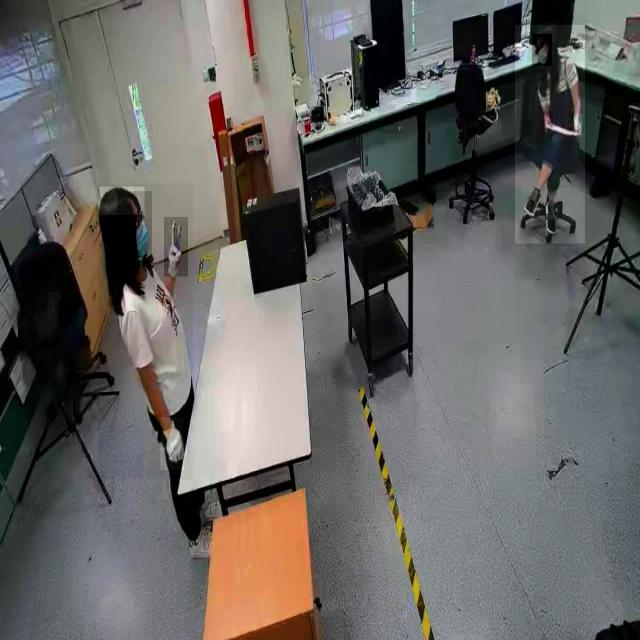face_mask: (118, 191, 152, 258), (532, 34, 552, 66)
hand_glove: (164, 217, 188, 276), (160, 417, 184, 471)
hand_noglove: (543, 111, 553, 131), (574, 114, 582, 136)
head_nohelmet: (99, 187, 145, 216), (536, 22, 556, 43)
person: (97, 183, 193, 480), (515, 25, 585, 244)
shoes: (522, 184, 542, 221), (543, 200, 559, 238)
